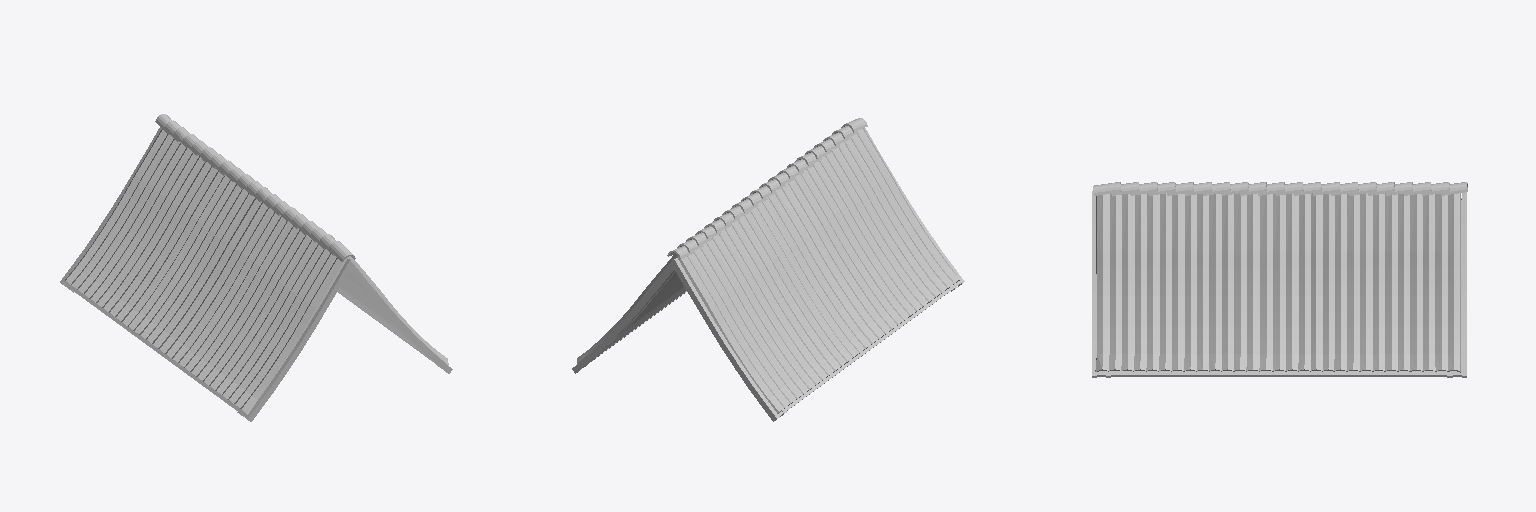
The model's file is Roof_RoundTiles_8x14.obj.
3 views of the same model, side by side, from view 1: azimuth 30°, elevation 25°; view 2: azimuth 150°, elevation 25°; view 3: azimuth 270°, elevation 25° (orthographic).
Parts seen in each view (by area): view 1: Roof_RoundTiles_8x14; view 2: Roof_RoundTiles_8x14; view 3: Roof_RoundTiles_8x14.
Boxes of the visible parts, box(x1,y1,x2,y2) form: Roof_RoundTiles_8x14: box(60, 114, 452, 421); Roof_RoundTiles_8x14: box(572, 118, 964, 421); Roof_RoundTiles_8x14: box(1092, 182, 1467, 377).
Bounding box in the file's own units: 9.95 × 6.78 × 15.71.